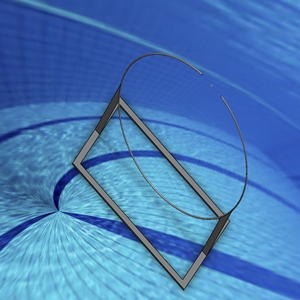circle: (71, 51, 249, 290)
